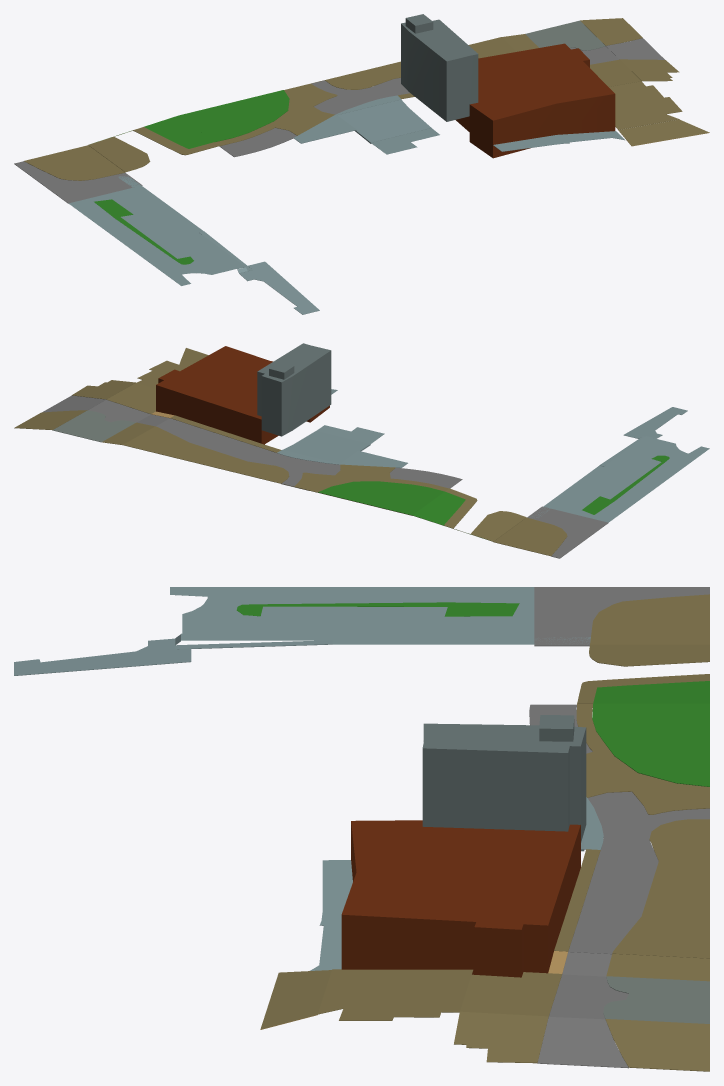
Rendered from 3dland_228.FBX.
The picture shows the model from 3 angles, top to bottom: view 1: azimuth 30°, elevation 25°; view 2: azimuth 150°, elevation 25°; view 3: azimuth 270°, elevation 25°; orthographic projection. The views are drawn at different scales.
Visible parts, largest first — view 1: 3dland_228; view 2: 3dland_228; view 3: 3dland_228.
Boxes of the visible parts, x1,y1,x2,y2 form: 3dland_228: (14, 14, 709, 314); 3dland_228: (14, 343, 709, 558); 3dland_228: (14, 587, 709, 1071).
Bounding box in the file's own units: 23694 × 14543 × 3800.
